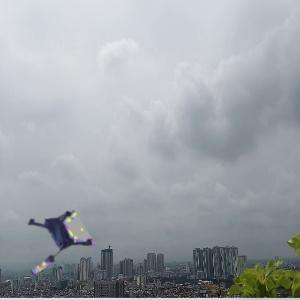drone: (11, 199, 84, 272)
